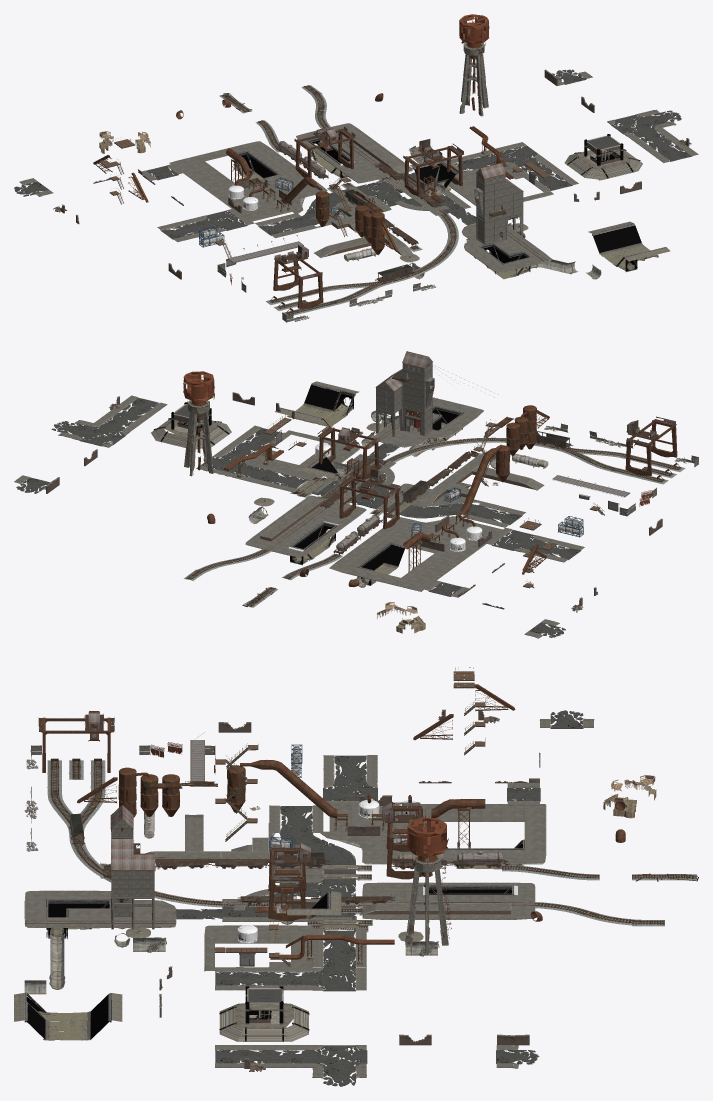
The model's file is trainyard_1-mid.glb.
3 views of the same model, one above another, from view 1: azimuth 30°, elevation 25°; view 2: azimuth 150°, elevation 25°; view 3: azimuth 270°, elevation 25° (orthographic). The views are drawn at different scales.
Parts seen in each view (by area): view 1: pavemnent_trainyard_b_LOD0, road_9x15_LOD0, water_tower_industrial_LOD0, road_nopavement_9x15_railway_LOD0, pipeline_100x300_up600_LOD0, sewer_wall_corner_600x600_LOD0, pipeline_300x900_hole_LOD0, train_wagon_b_LOD0, sewer_drainwall_600_LOD0, silo_a_LOD0, wall_300x900_collapsed_LOD0, train_crane_a_LOD0 (+8 smaller); view 2: pavemnent_trainyard_b_LOD0, road_9x15_LOD0, water_tower_industrial_LOD0, road_nopavement_9x15_railway_LOD0, pipeline_100x300_up600_LOD0, pipeline_300x900_hole_LOD0, sewer_wall_corner_600x600_LOD0, train_wagon_b_LOD0, sewer_drainwall_600_LOD0, train_crane_a_LOD0, wall_300x900_collapsed_LOD0, silo_a_LOD0 (+10 smaller); view 3: pavemnent_trainyard_b_LOD0, road_9x15_LOD0, road_nopavement_9x15_railway_LOD0, pipeline_100x300_up600_LOD0, water_tower_industrial_LOD0, train_wagon_b_LOD0, sewer_wall_corner_600x600_LOD0, pipeline_300x900_hole_LOD0, sewer_drainwall_600_LOD0, train_crane_a_LOD0, silo_a_LOD0, wall_300x900_collapsed_LOD0 (+11 smaller).
Part boxes in pixels (x1,y1,x2,y2): pavemnent_trainyard_b_LOD0: [19, 71, 698, 273]; road_9x15_LOD0: [14, 69, 691, 239]; water_tower_industrial_LOD0: [236, 14, 635, 269]; road_nopavement_9x15_railway_LOD0: [219, 54, 547, 315]; pipeline_100x300_up600_LOD0: [176, 93, 503, 308]; sewer_wall_corner_600x600_LOD0: [234, 134, 665, 275]; pipeline_300x900_hole_LOD0: [94, 35, 666, 308]; train_wagon_b_LOD0: [274, 128, 463, 282]; sewer_drainwall_600_LOD0: [99, 133, 670, 279]; silo_a_LOD0: [93, 155, 397, 255]; wall_300x900_collapsed_LOD0: [53, 69, 691, 279]; train_crane_a_LOD0: [234, 43, 657, 278]; pavemnent_trainyard_b_LOD0: [14, 395, 584, 638]; road_9x15_LOD0: [16, 398, 580, 637]; water_tower_industrial_LOD0: [183, 357, 434, 581]; road_nopavement_9x15_railway_LOD0: [184, 397, 685, 607]; pipeline_100x300_up600_LOD0: [207, 412, 677, 587]; pipeline_300x900_hole_LOD0: [186, 360, 676, 583]; sewer_wall_corner_600x600_LOD0: [154, 383, 463, 585]; train_wagon_b_LOD0: [318, 419, 676, 554]; sewer_drainwall_600_LOD0: [254, 381, 462, 632]; train_crane_a_LOD0: [190, 351, 675, 582]; wall_300x900_collapsed_LOD0: [46, 392, 662, 612]; silo_a_LOD0: [496, 405, 549, 574]; pavemnent_trainyard_b_LOD0: [24, 718, 594, 1078]; road_9x15_LOD0: [176, 710, 583, 1086]; road_nopavement_9x15_railway_LOD0: [24, 758, 698, 940]; pipeline_100x300_up600_LOD0: [39, 716, 625, 941]; water_tower_industrial_LOD0: [52, 817, 451, 954]; train_wagon_b_LOD0: [39, 711, 509, 904]; sewer_wall_corner_600x600_LOD0: [25, 839, 524, 1040]; pipeline_300x900_hole_LOD0: [24, 687, 524, 1021]; sewer_drainwall_600_LOD0: [14, 781, 655, 1040]; train_crane_a_LOD0: [38, 713, 521, 1040]; silo_a_LOD0: [77, 684, 514, 817]; wall_300x900_collapsed_LOD0: [159, 709, 540, 1071].
Size of the model in its own units: 247 by 57.66 by 190.
63 materials, 63 textured.
